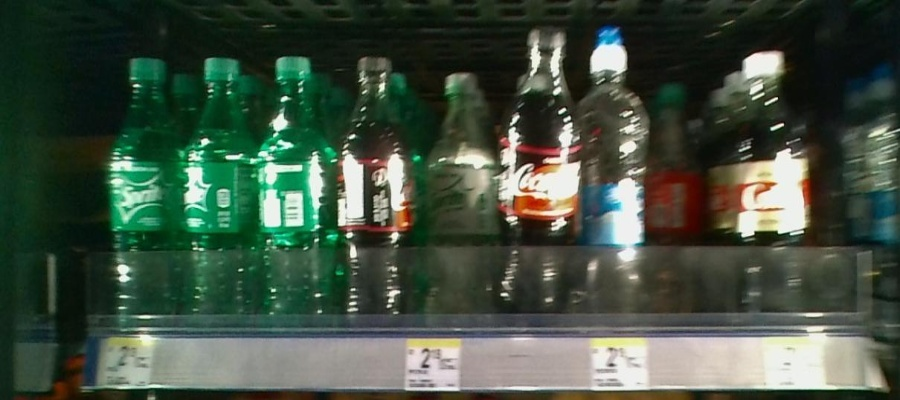bottle: (721, 50, 813, 326), (498, 24, 582, 322), (100, 51, 183, 325), (253, 41, 332, 322), (332, 50, 409, 328), (582, 26, 651, 320), (185, 47, 253, 328), (420, 64, 493, 321), (653, 72, 704, 311)
